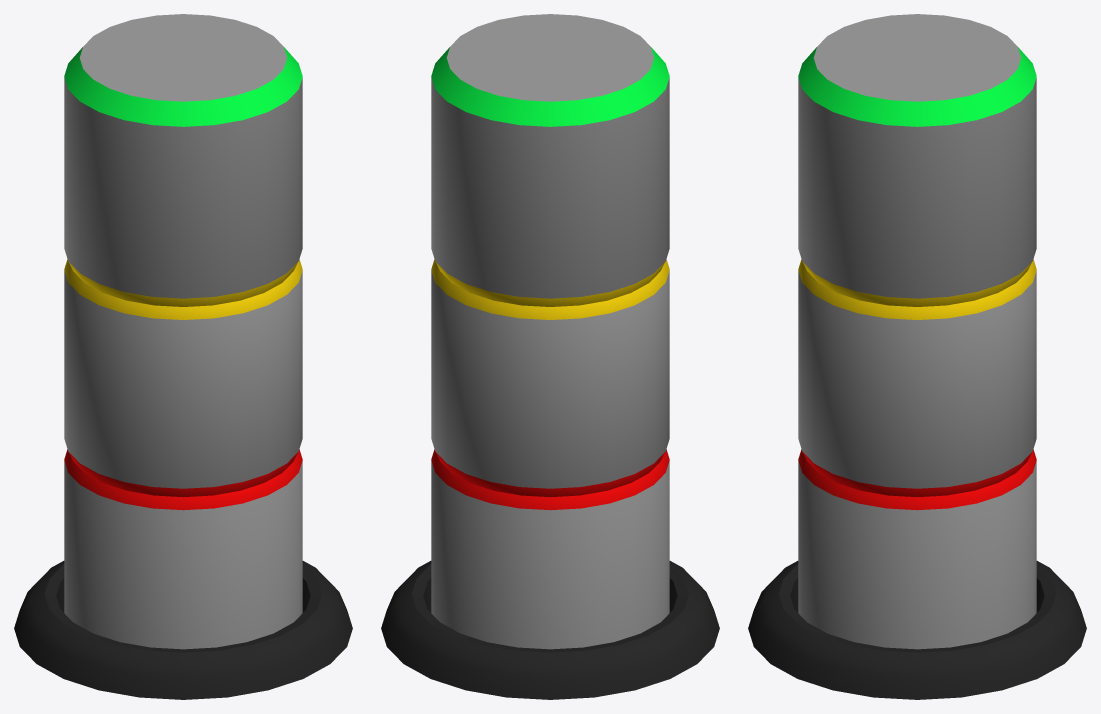
The model's file is pillar.glb.
The picture shows the model from 3 angles, left to right: view 1: azimuth 30°, elevation 25°; view 2: azimuth 150°, elevation 25°; view 3: azimuth 270°, elevation 25°; orthographic projection.
Visible parts, largest first — view 1: Circle, Circle.001; view 2: Circle, Circle.001; view 3: Circle, Circle.001.
Part boxes in pixels (x1,y1,x2,y2): Circle: (64, 14, 302, 649); Circle.001: (14, 561, 352, 699); Circle: (431, 14, 669, 649); Circle.001: (381, 561, 719, 699); Circle: (798, 14, 1036, 649); Circle.001: (748, 561, 1086, 699).
Size of the model in its own units: 0.1026 by 0.1962 by 0.1026.
